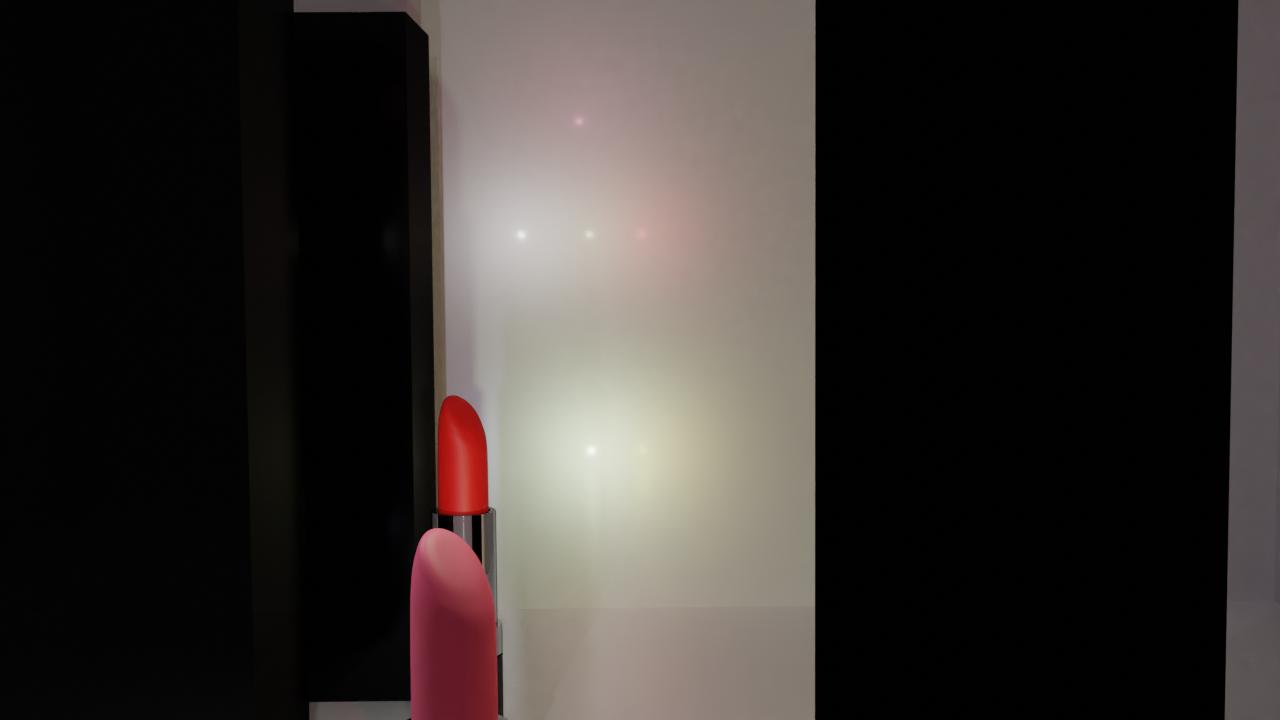CLASSIFIER_NAME: (392, 520, 526, 720)
